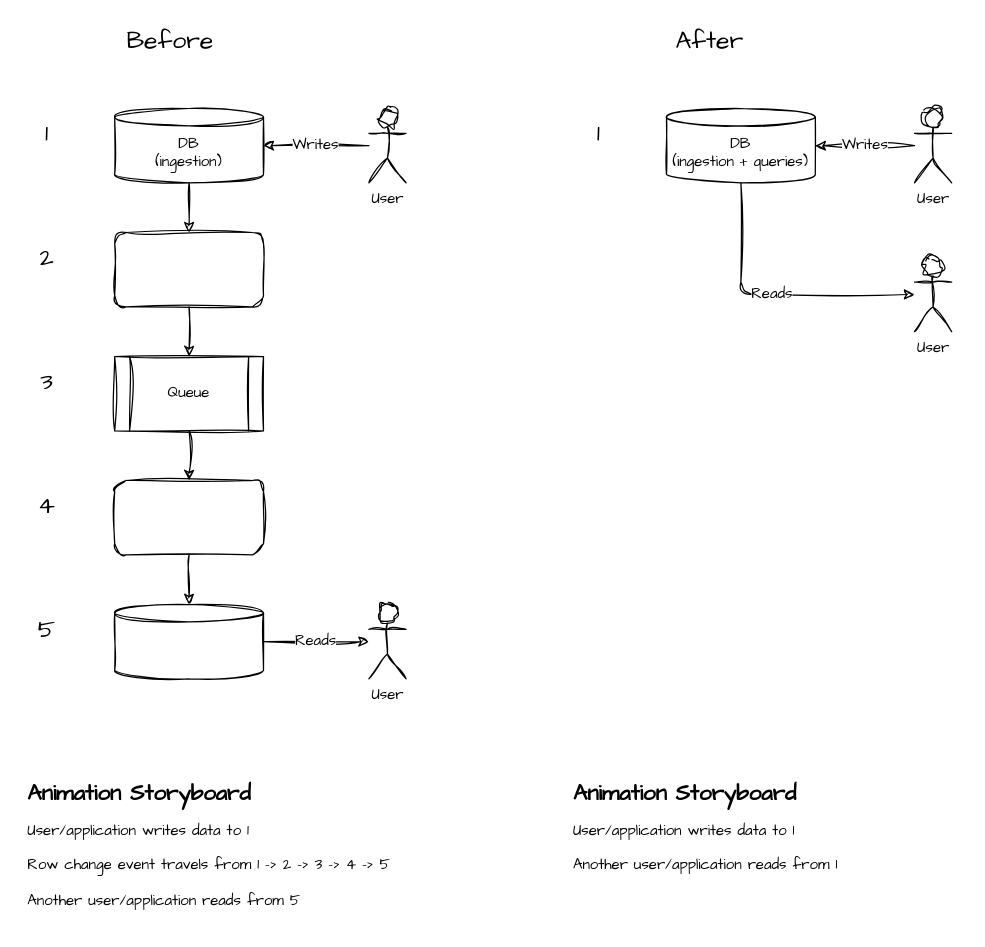
The diagram is 985 pixels wide and 947 high, and some of its shapes have lost their labels. Each missing label, with the centre of its shape:
DB (queries): the point at 188,641
Debezium: the point at 188,269
Load: the point at 188,517
